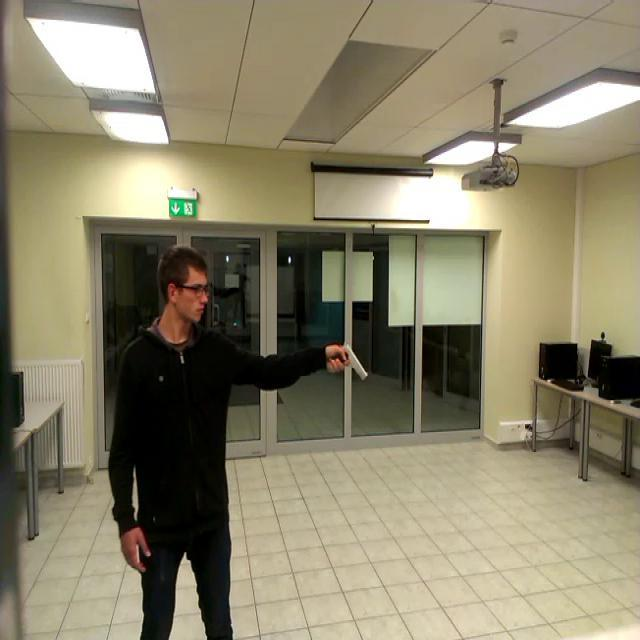Gun: (332, 342, 369, 380)
